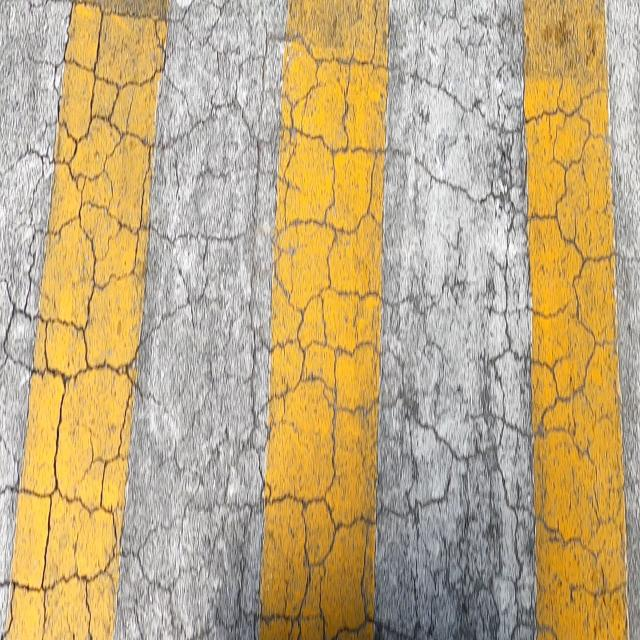Retak-Buaya: (0, 1, 629, 640)
